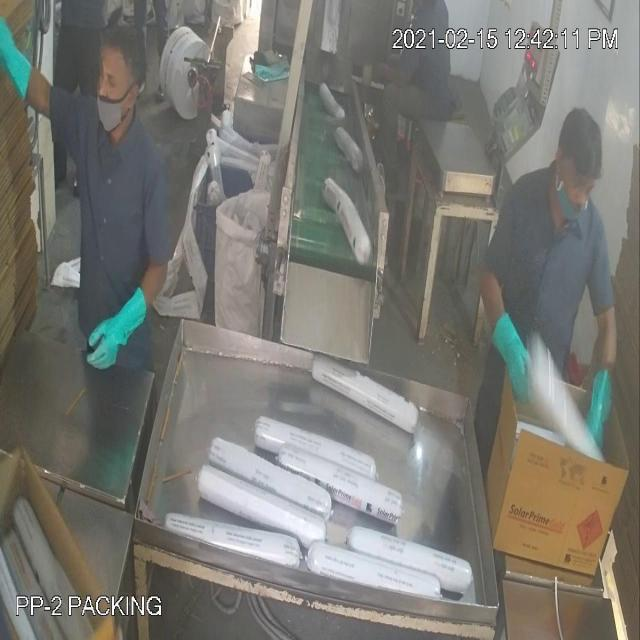Gloves: (18, 47, 508, 348)
